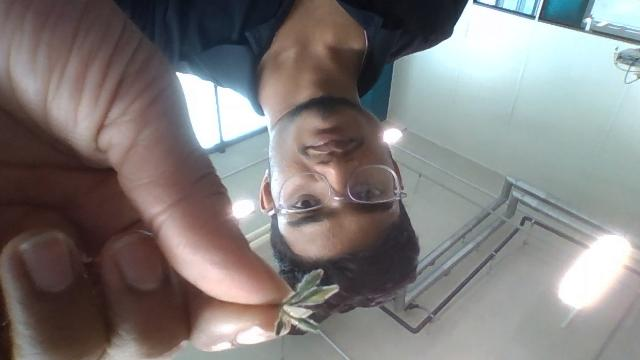Flower Bud: (293, 284, 338, 306), (283, 312, 321, 335), (294, 270, 325, 296), (274, 316, 288, 337)
